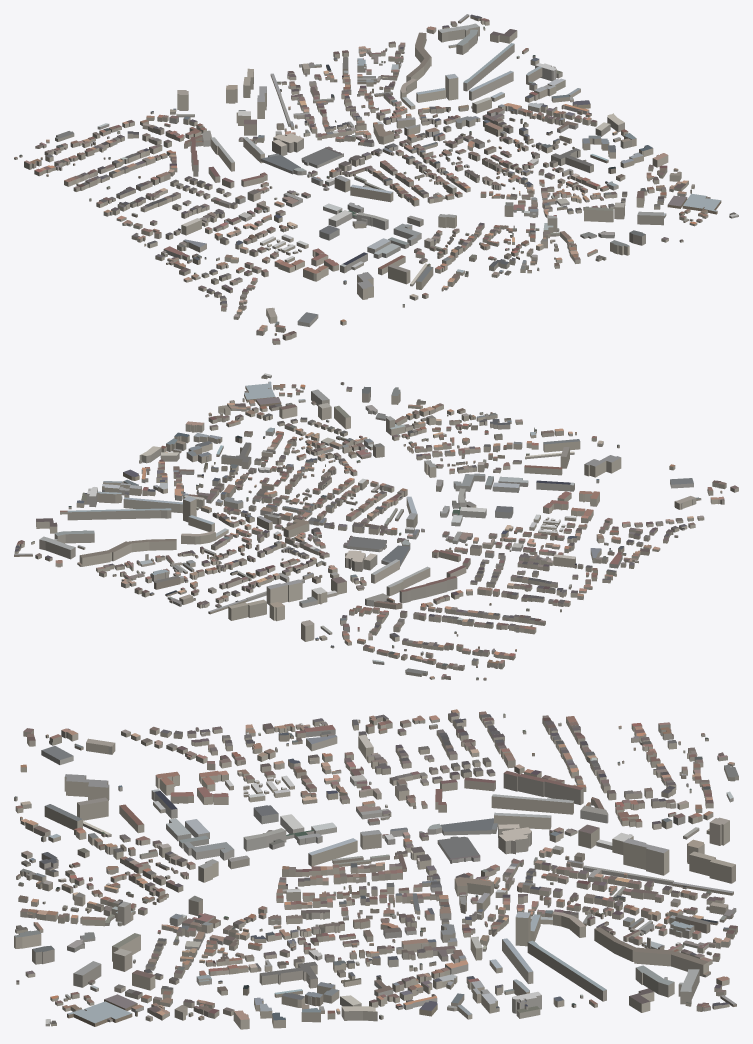
3 views of the same model, one above another, from view 1: azimuth 30°, elevation 25°; view 2: azimuth 150°, elevation 25°; view 3: azimuth 270°, elevation 25° (orthographic). The views are drawn at different scales.
Parts seen in each view (by area): view 1: tuile; view 2: tuile; view 3: tuile.
Part boxes in pixels (<box>): tuile: <box>14,14,738,344</box>; tuile: <box>14,373,738,680</box>; tuile: <box>14,709,738,1029</box>.
Bounding box in the file's own units: 1021 × 90.32 × 1008.
